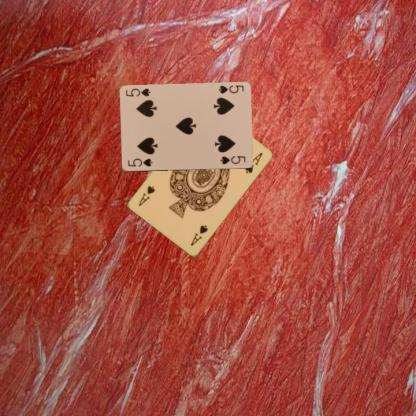5s: (125, 156, 153, 168), (216, 82, 244, 94)
As: (188, 223, 209, 247)
